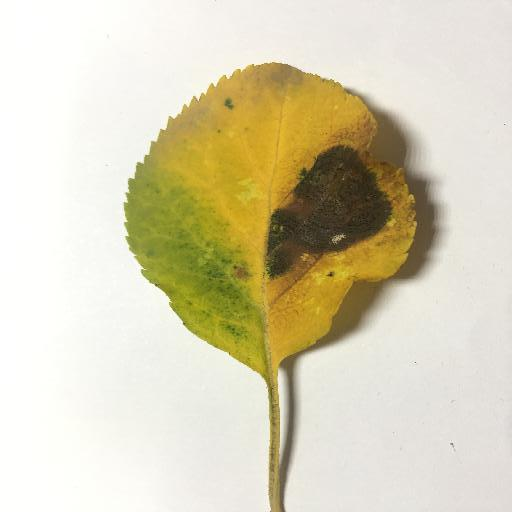Brown_Spot: (270, 138, 405, 273)
